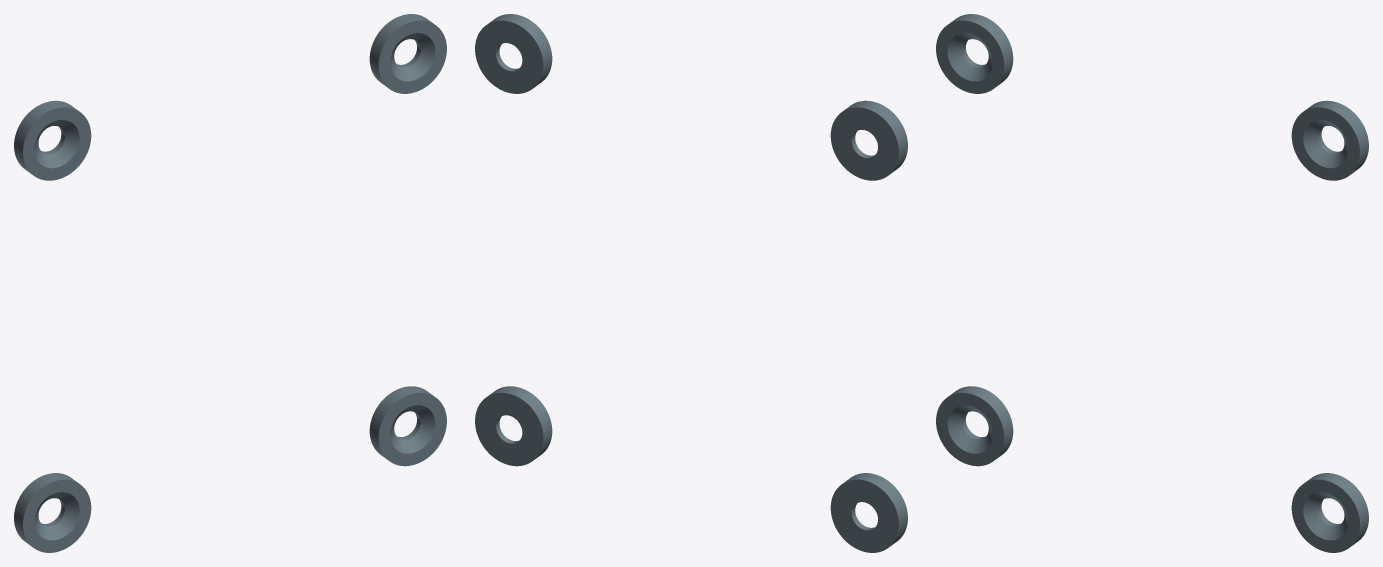
Rendered from PCB_Retainers.obj.
3 renders of one model, left to right at view 1: azimuth 30°, elevation 25°; view 2: azimuth 150°, elevation 25°; view 3: azimuth 330°, elevation 25°, orthographic.
Visible parts, largest first — view 1: PCB_Retainers; view 2: PCB_Retainers; view 3: PCB_Retainers.
Boxes of the visible parts, box(x1,y1,x2,y2) form: PCB_Retainers: box(14, 14, 446, 552); PCB_Retainers: box(475, 14, 907, 552); PCB_Retainers: box(936, 14, 1368, 552).
Size of the model in its own units: 27.31 by 27.31 by 1.
